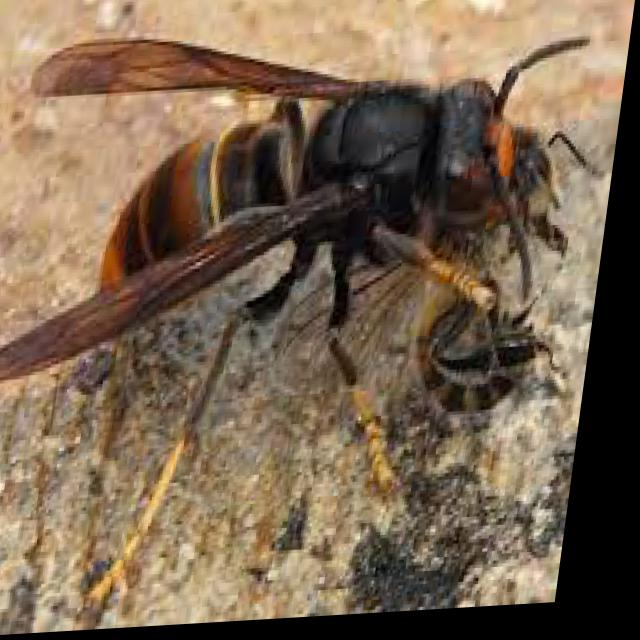Vespa Velutina: (0, 10, 629, 625)
